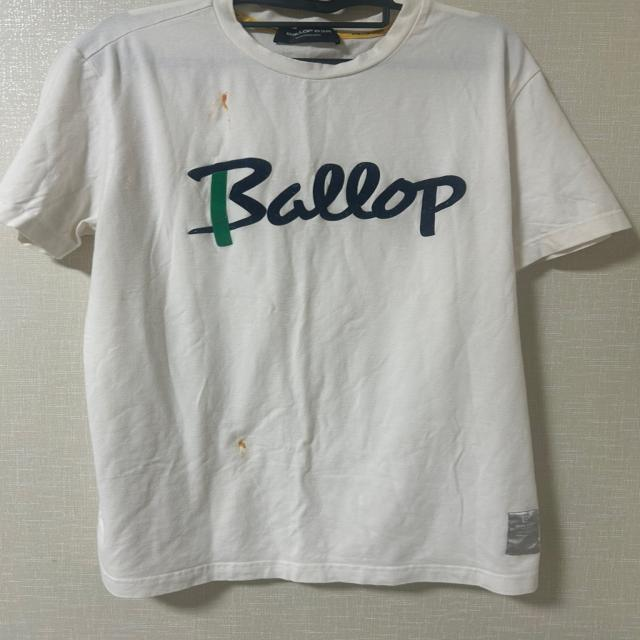stain: (214, 81, 240, 122), (228, 439, 250, 456)
